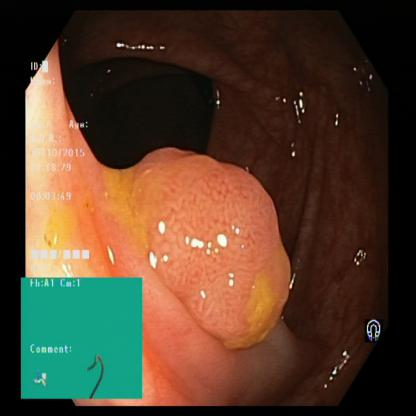Labels: (26, 59, 100, 277), (22, 279, 143, 401), (360, 304, 388, 355)
Polyps: (144, 148, 296, 330)
